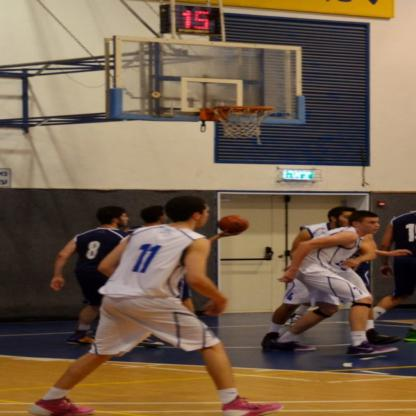Ball: (218, 216, 249, 234)
